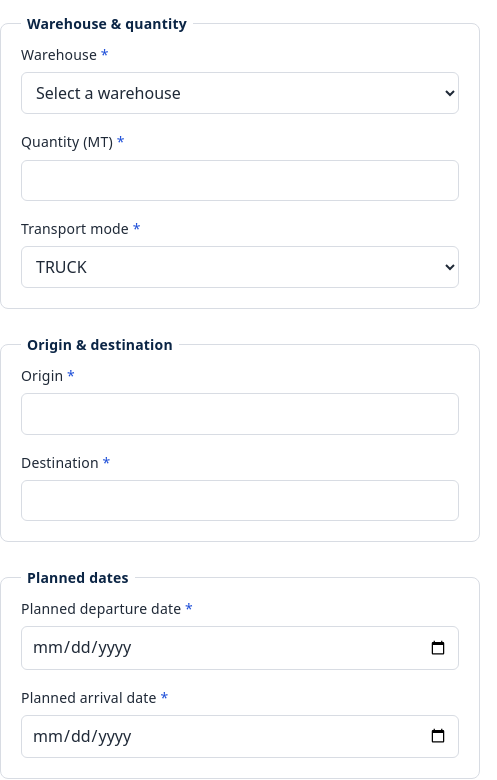
Test: ShipmentForm › auto-fills destination with the selected warehouse's name for a BUY trade's shipment
Select "Rotterdam Silo" in the dropdown labelled "Warehouse". click: (240, 93)
box: [21,72,459,114]
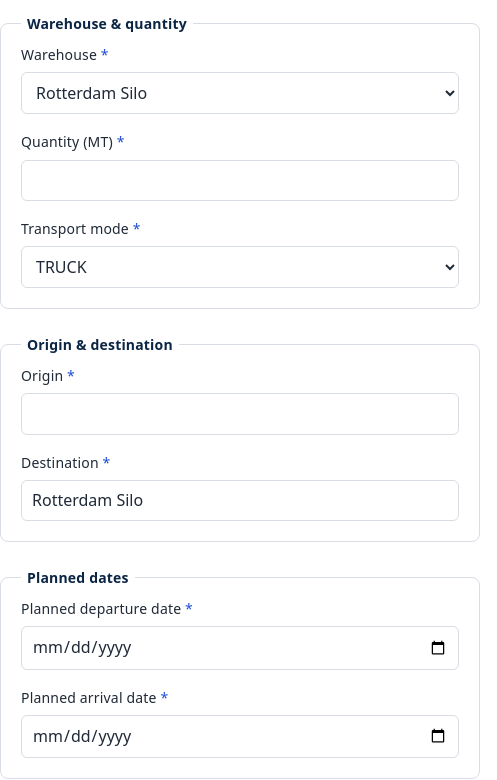
Expected: the field labelled "Destination" holds "Rotterdam Silo", [21,480,459,521]
Select "Antwerp Terminal" in the dropdown labelled "Warehouse". click: (240, 93)
box: [21,72,459,114]
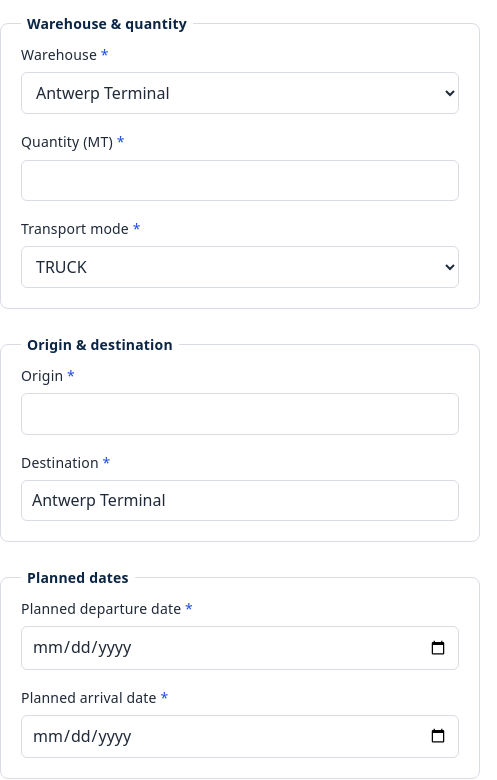
Expected: the field labelled "Destination" holds "Antwerp Terminal", [21,480,459,521]
